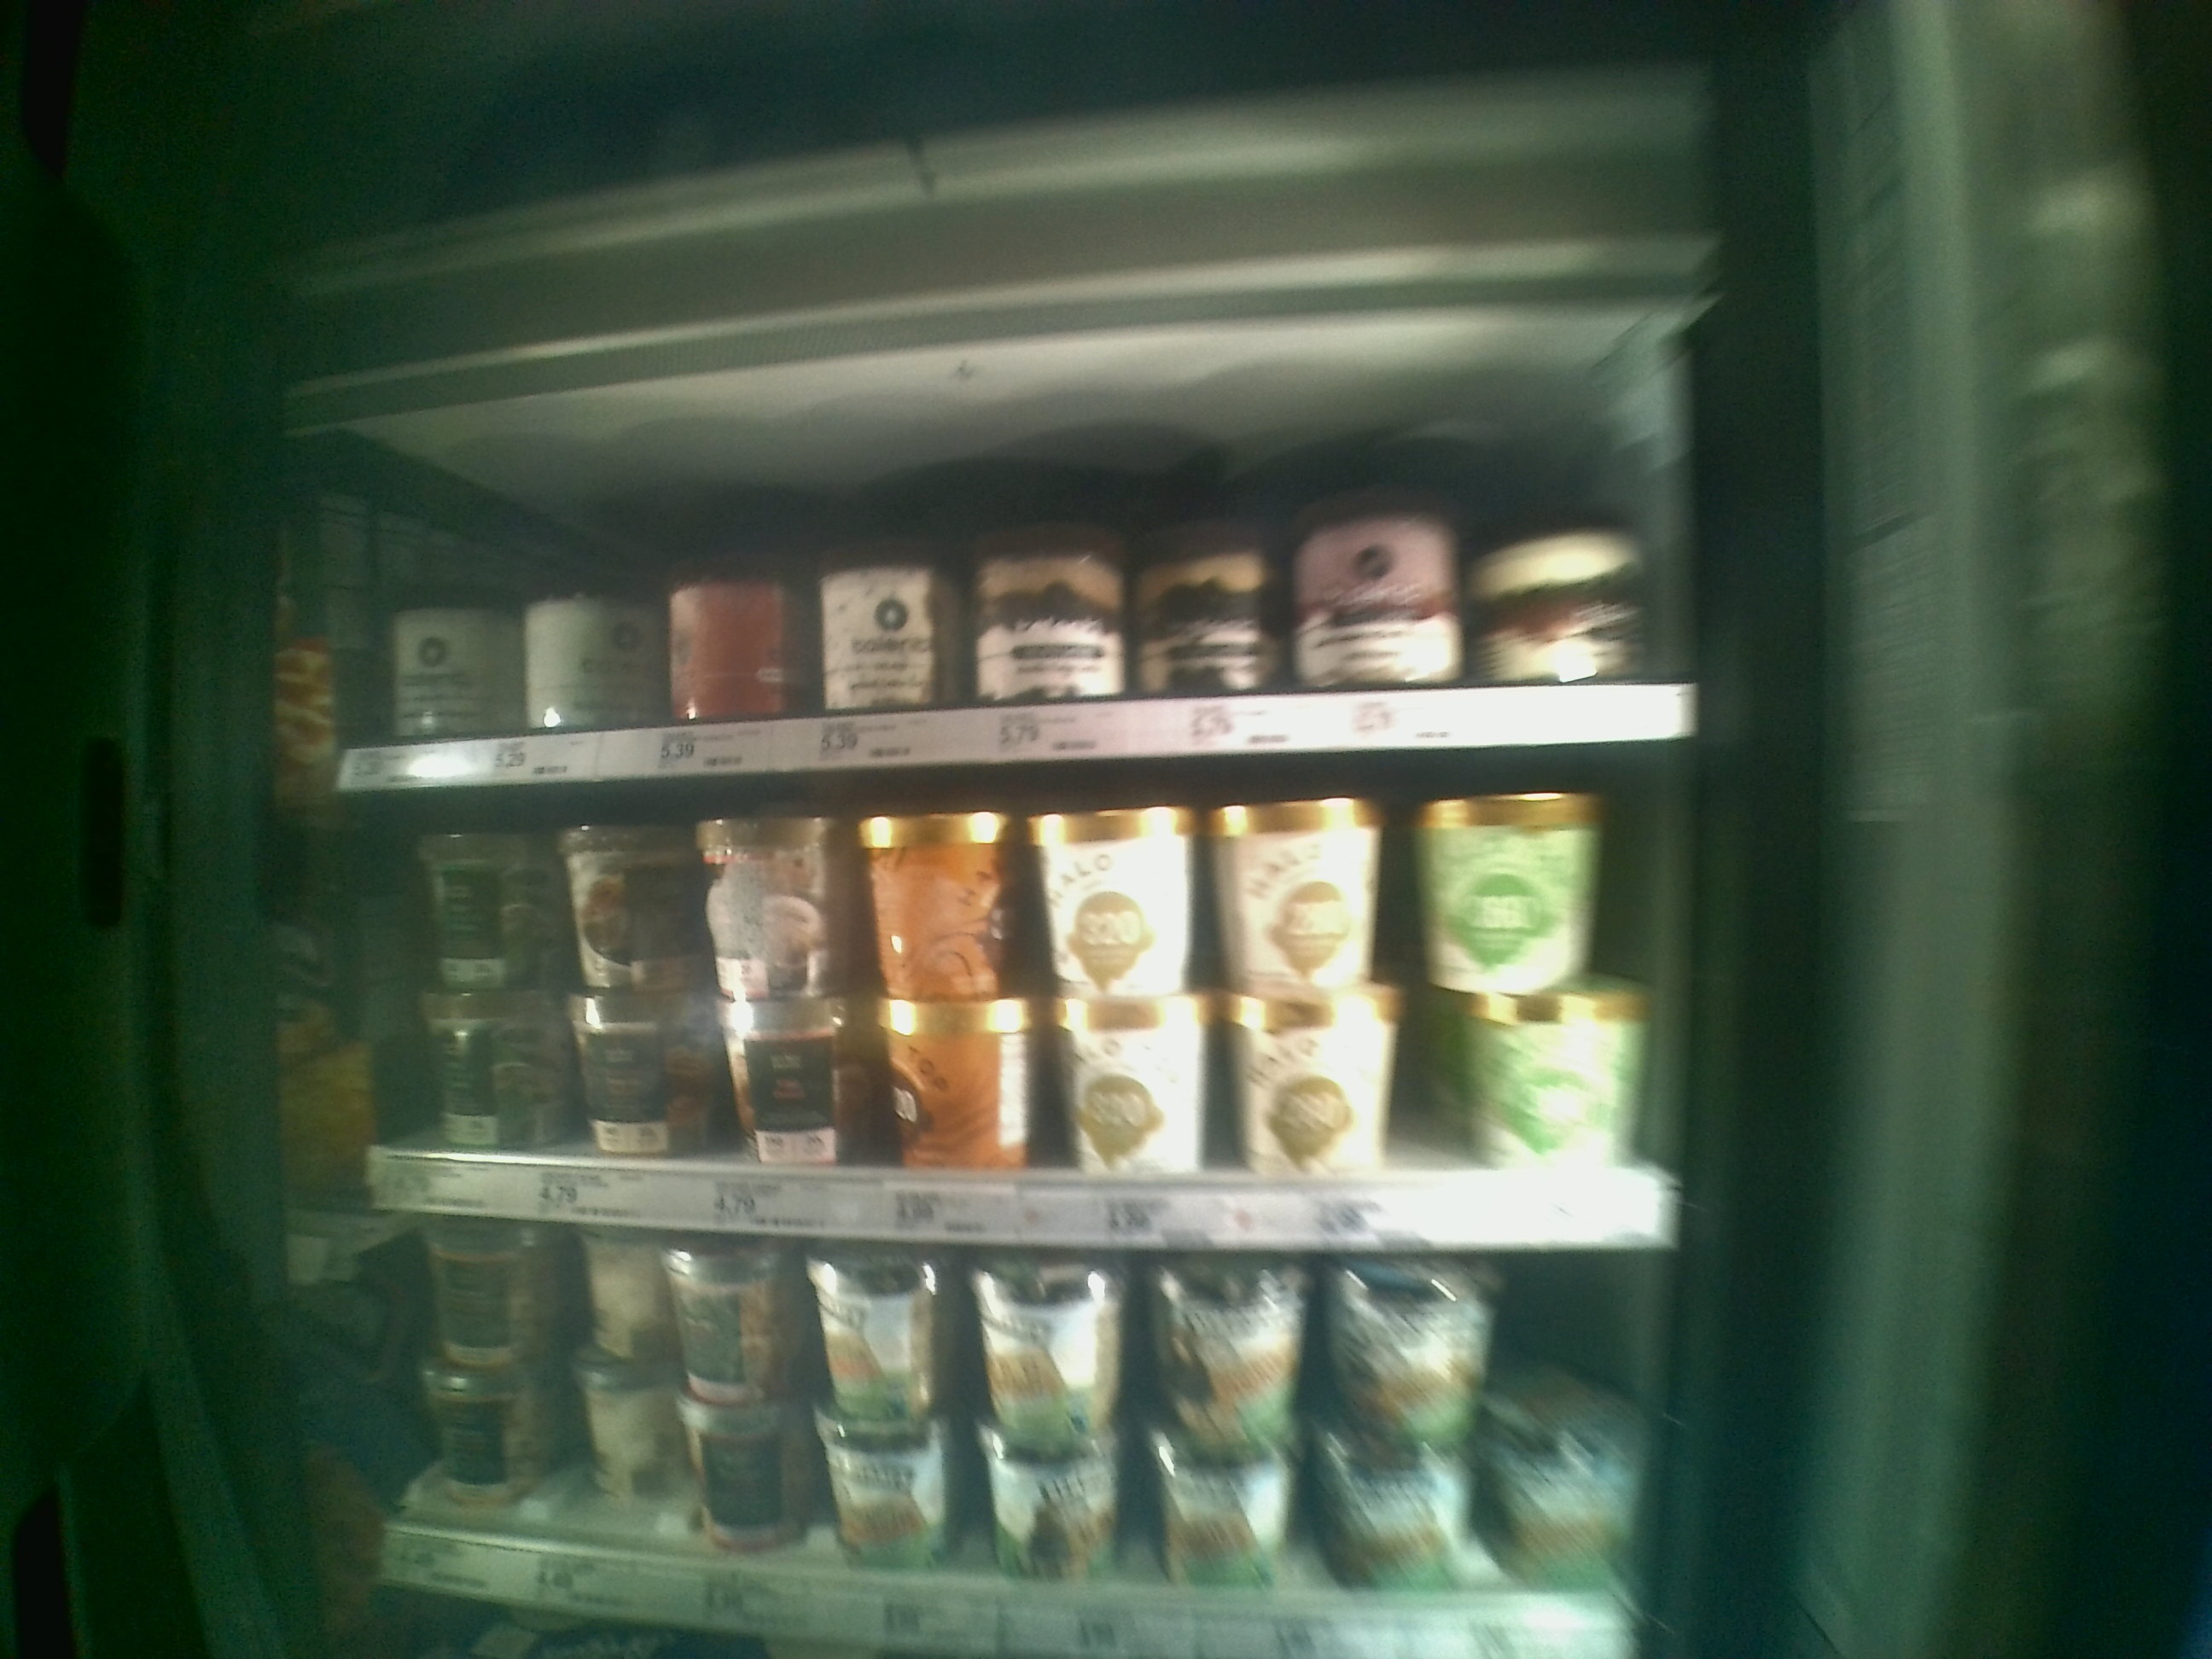ice-cream-shelf: (340, 791, 1684, 1239), (343, 392, 1686, 781)
